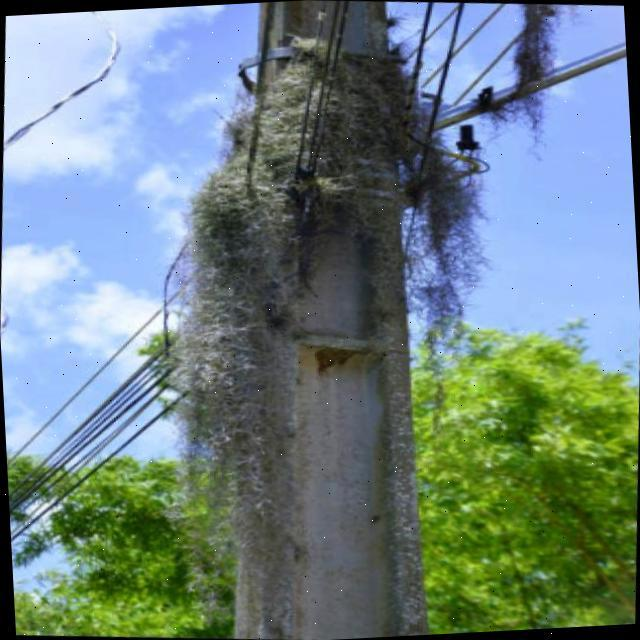critical vegetation: (134, 0, 475, 575)
